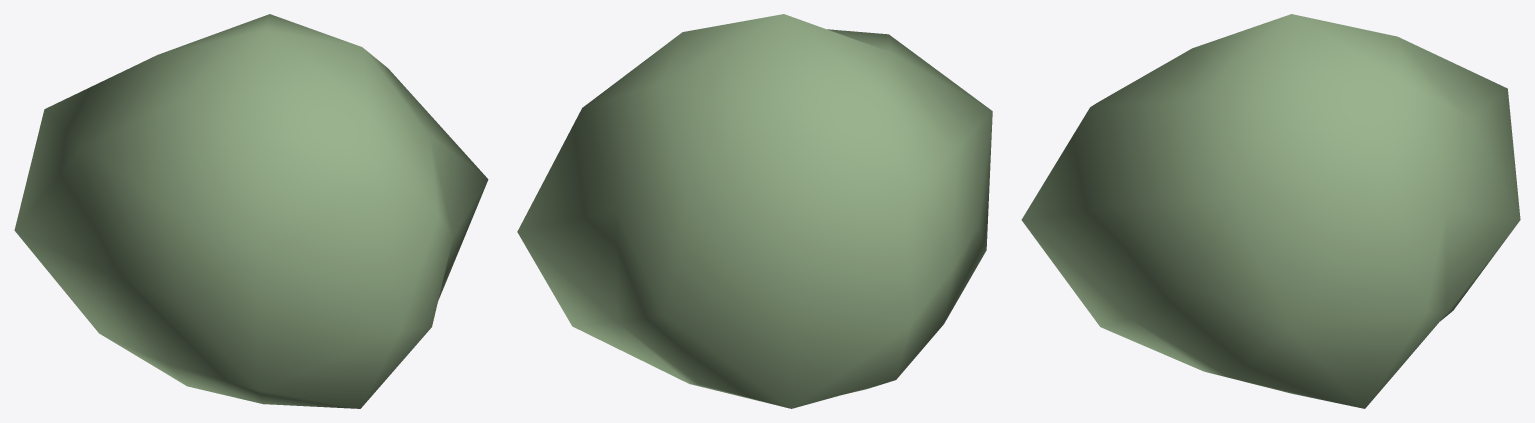
The model's file is shrub_core.glb.
The picture shows the model from 3 angles, left to right: view 1: azimuth 30°, elevation 25°; view 2: azimuth 150°, elevation 25°; view 3: azimuth 270°, elevation 25°; orthographic projection. The views are drawn at different scales.
Visible parts, largest first — view 1: shrub_core; view 2: shrub_core; view 3: shrub_core.
Part boxes in pixels (x1=…): shrub_core: x1=14, y1=14, x2=488, y2=408; shrub_core: x1=517, y1=14, x2=992, y2=408; shrub_core: x1=1021, y1=14, x2=1520, y2=408.
Bounding box in the file's own units: 1.52 × 1.27 × 1.59.
